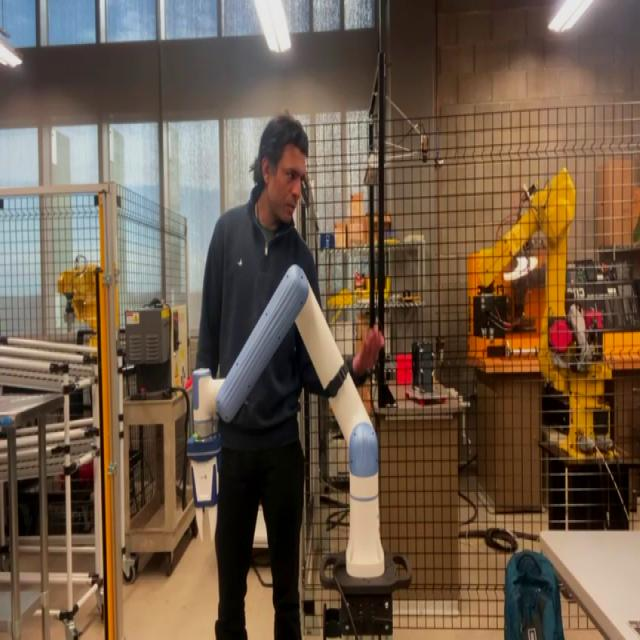robot: (187, 253, 387, 601)
